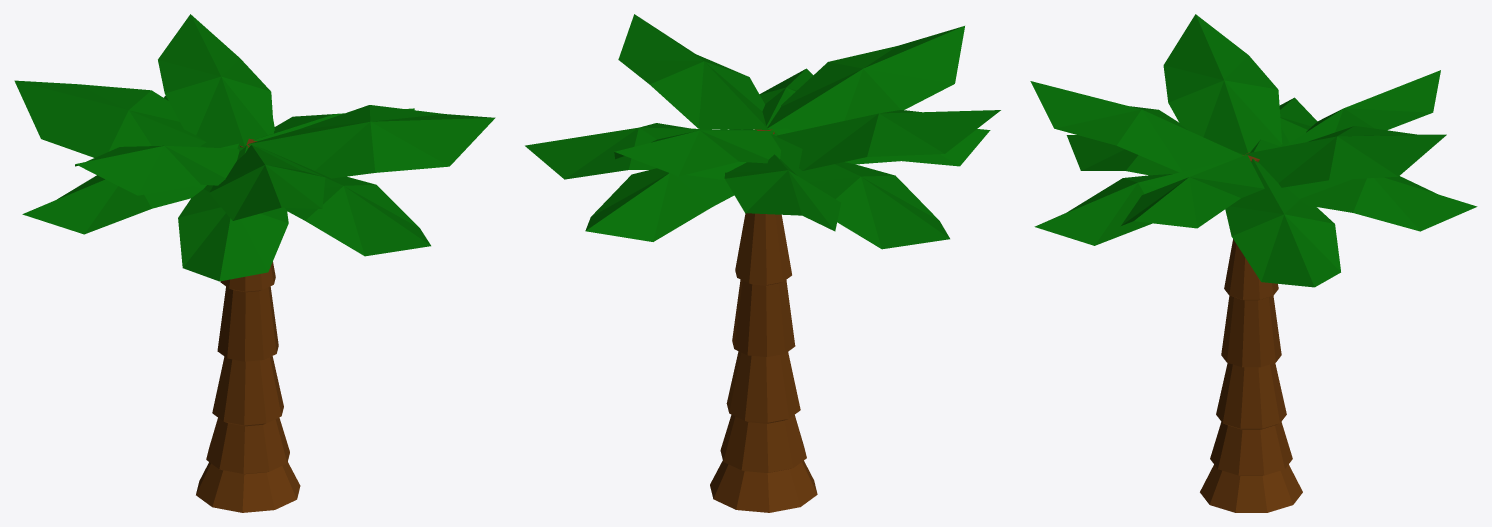
The model's file is Palmtree.obj.
3 views of the same model, side by side, from view 1: azimuth 30°, elevation 25°; view 2: azimuth 150°, elevation 25°; view 3: azimuth 270°, elevation 25° (orthographic). The views are drawn at different scales.
Visible parts, largest first — view 1: Palmtree_Circle.005; view 2: Palmtree_Circle.005; view 3: Palmtree_Circle.005.
Boxes of the visible parts, x1,y1,x2,y2 form: Palmtree_Circle.005: (14,14,495,512); Palmtree_Circle.005: (525,14,1000,512); Palmtree_Circle.005: (1030,14,1477,512).
Bounding box in the file's own units: 11.59 × 10.9 × 11.54.
